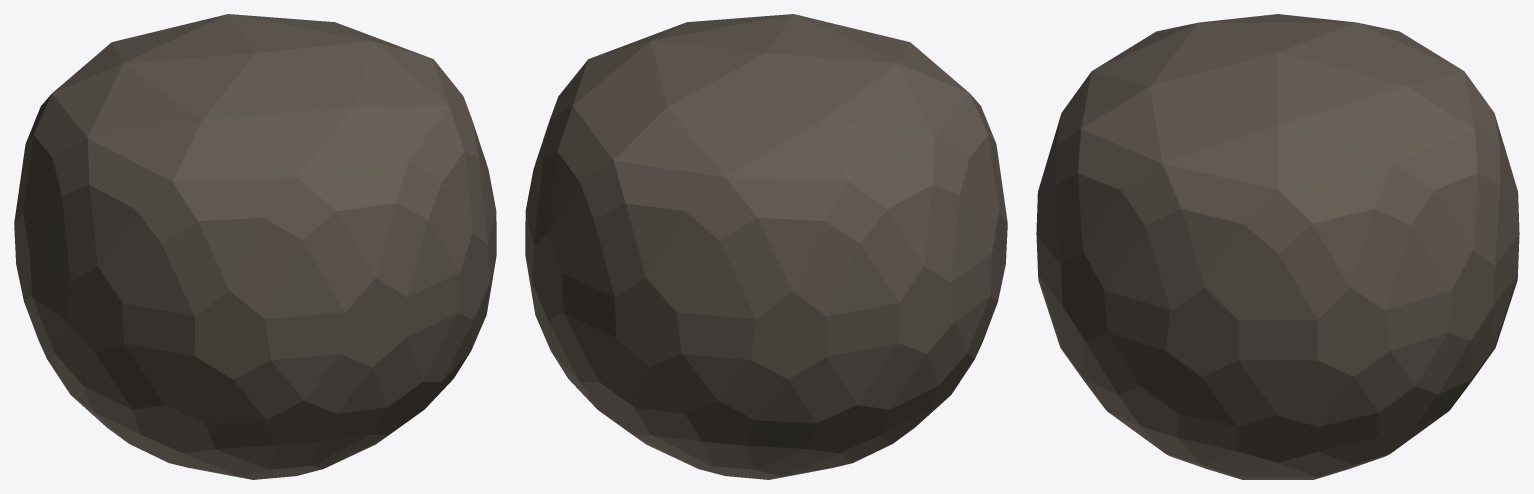
Rendered from stone3.obj.
3 views of the same model, side by side, from view 1: azimuth 30°, elevation 25°; view 2: azimuth 150°, elevation 25°; view 3: azimuth 270°, elevation 25° (orthographic).
Visible parts, largest first — view 1: Icosphere; view 2: Icosphere; view 3: Icosphere.
Part boxes in pixels (box(x1,y1,x2,y2)): Icosphere: box(14, 14, 496, 479); Icosphere: box(525, 14, 1007, 479); Icosphere: box(1036, 14, 1519, 479).
Bounding box in the file's own units: 6.22 × 5.79 × 6.24.
